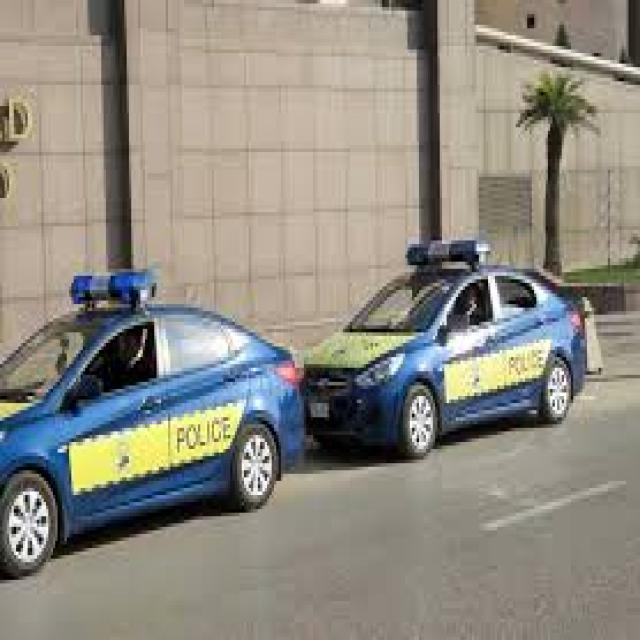police-car: (0, 266, 306, 576), (300, 237, 590, 456)
